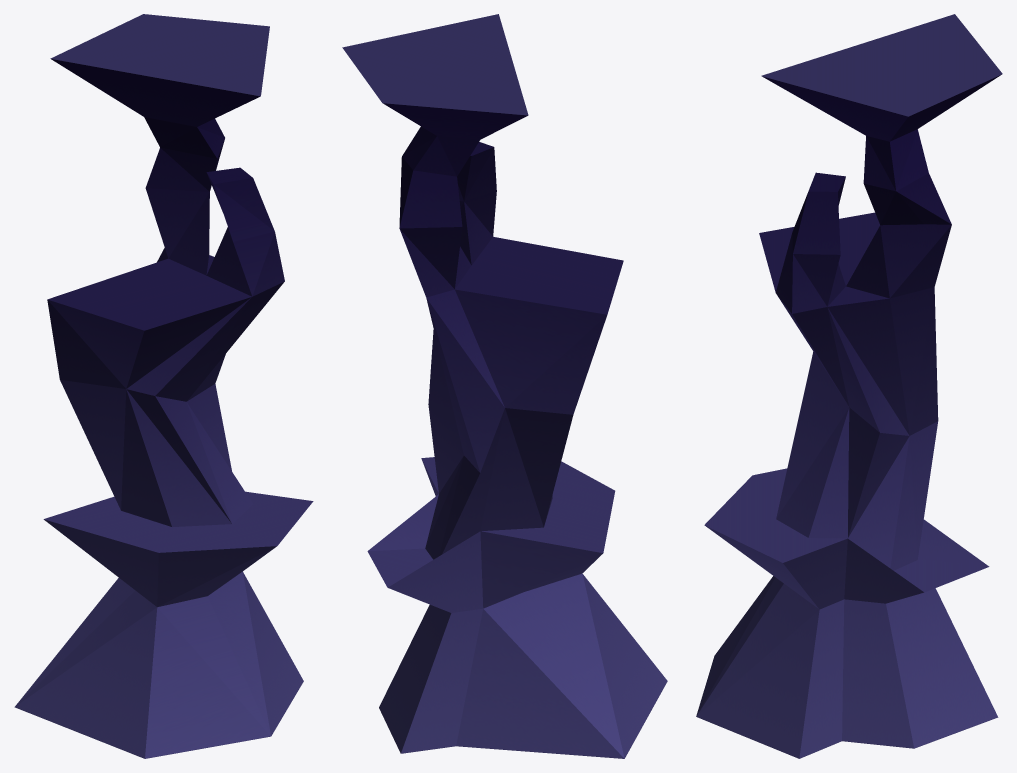
The model's file is MOD_Waypoint (6).fbx.
The picture shows the model from 3 angles, left to right: view 1: azimuth 30°, elevation 25°; view 2: azimuth 150°, elevation 25°; view 3: azimuth 270°, elevation 25°; orthographic projection. The views are drawn at different scales.
Parts seen in each view (by area): view 1: MOD_Waypoint6; view 2: MOD_Waypoint6; view 3: MOD_Waypoint6.
Boxes of the visible parts, x1,y1,x2,y2 form: MOD_Waypoint6: (14,14,313,758); MOD_Waypoint6: (342,14,667,758); MOD_Waypoint6: (696,14,1002,758).
Size of the model in its own units: 3.32 by 7.45 by 3.18.
